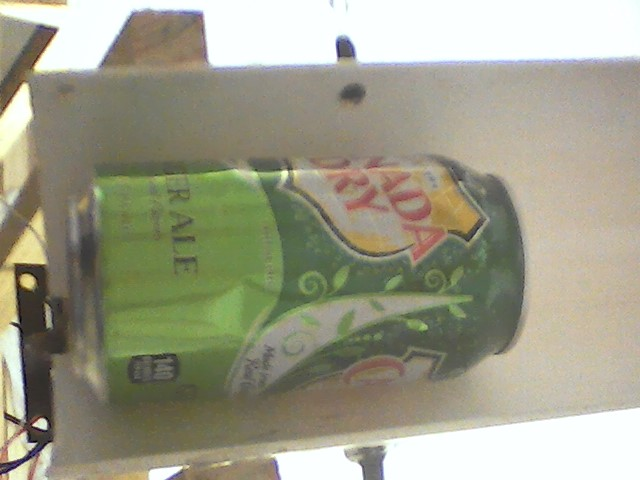lata: (59, 148, 537, 407)
